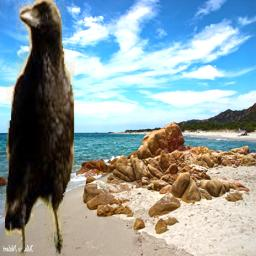Crow: (5, 0, 75, 256)
